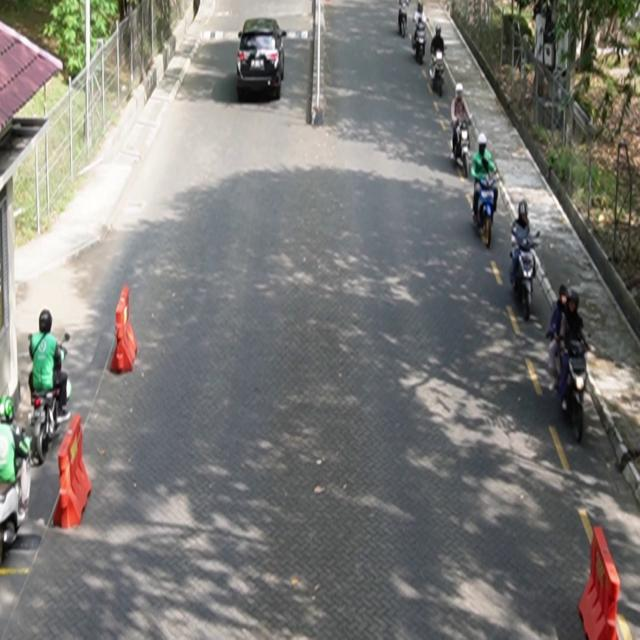car: (237, 18, 288, 101)
